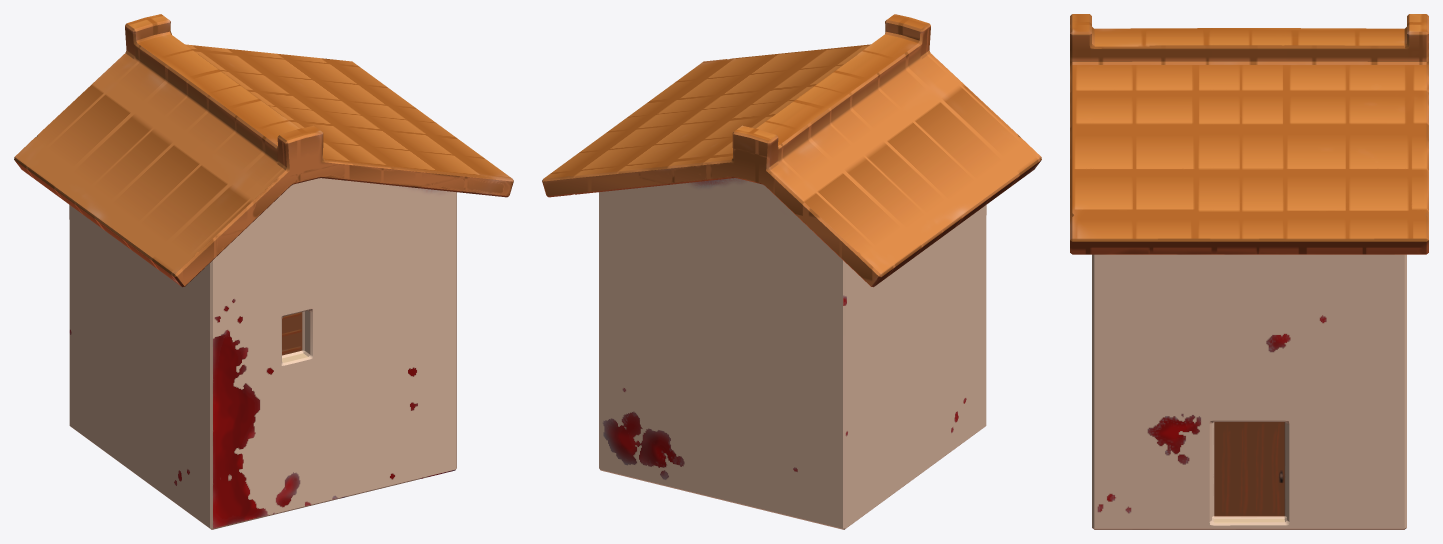
Rendered from building_small_textured.fbx.
3 views of the same model, side by side, from view 1: azimuth 30°, elevation 25°; view 2: azimuth 150°, elevation 25°; view 3: azimuth 270°, elevation 25° (orthographic). The views are drawn at different scales.
Visible parts, largest first — view 1: pCube1; view 2: pCube1; view 3: pCube1.
Part boxes in pixels (<box>): pCube1: <box>14,14,513,529</box>; pCube1: <box>542,14,1041,529</box>; pCube1: <box>1070,14,1428,529</box>.
Bounding box in the file's own units: 13.75 × 14.77 × 11.4.
1 material, 1 textured.
